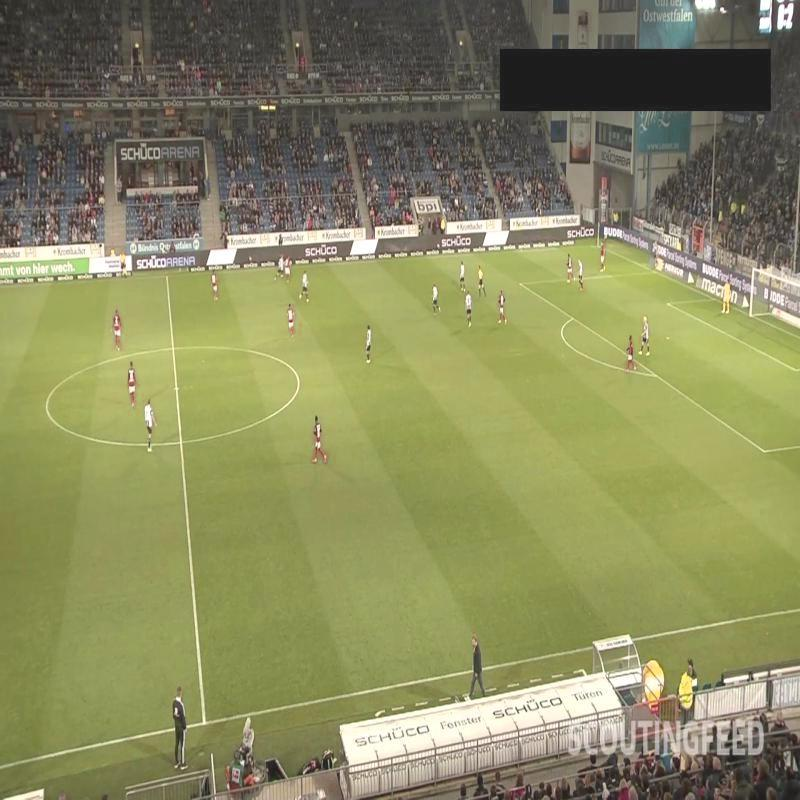1: (592, 239, 606, 253)
10: (566, 312, 581, 326)
11: (648, 368, 662, 382)
12: (758, 445, 772, 459)
13: (159, 266, 175, 284), (160, 270, 172, 282)
14: (165, 340, 180, 356)
15: (172, 434, 188, 450)
16: (193, 710, 215, 737)
2: (650, 266, 664, 280)
3: (707, 292, 722, 306)
7: (661, 296, 676, 310)
8: (792, 364, 800, 376)
9: (512, 276, 526, 290)
c: (290, 372, 309, 388), (40, 399, 54, 413)
